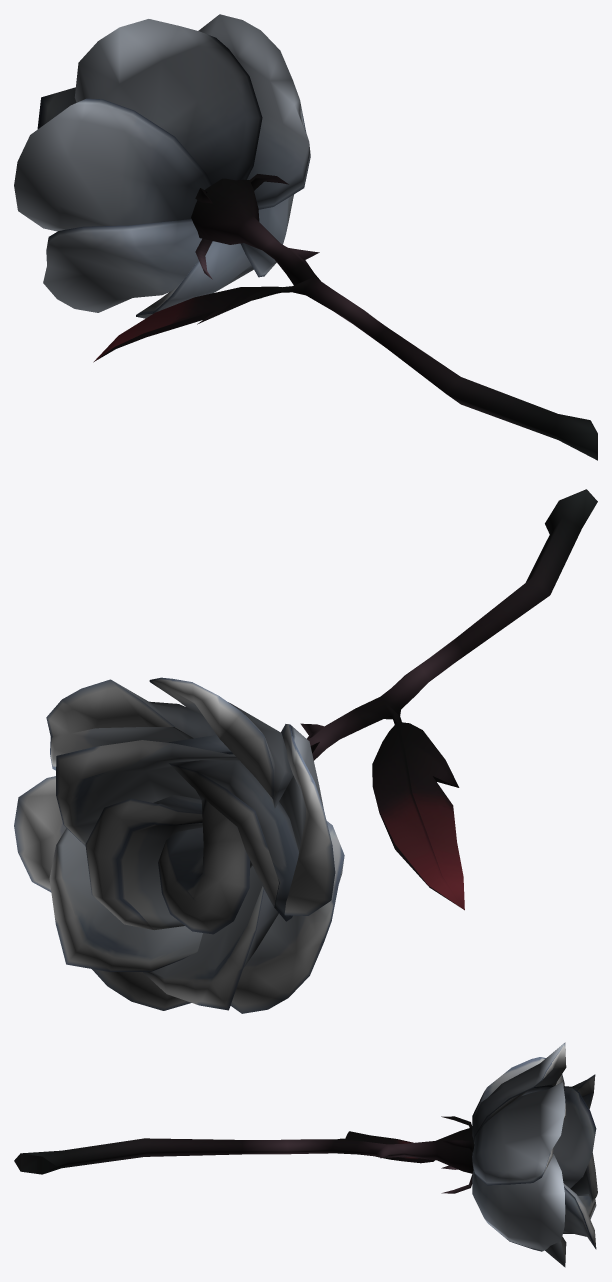
Rendered from CH_Karen_WP_Base.glb.
3 renders of one model, top to bottom at view 1: azimuth 30°, elevation 25°; view 2: azimuth 150°, elevation 25°; view 3: azimuth 270°, elevation 25°, orthographic. The views are drawn at different scales.
Visible parts, largest first — view 1: CH_Karen_WP_Base; view 2: CH_Karen_WP_Base; view 3: CH_Karen_WP_Base.
Boxes of the visible parts, x1=… form: CH_Karen_WP_Base: x1=14, y1=14, x2=597, y2=460; CH_Karen_WP_Base: x1=14, y1=489, x2=597, y2=1013; CH_Karen_WP_Base: x1=14, y1=1042, x2=597, y2=1267.
Bounding box in the file's own units: 0.0814 × 0.0763 × 0.1987.
1 material, 1 textured.
